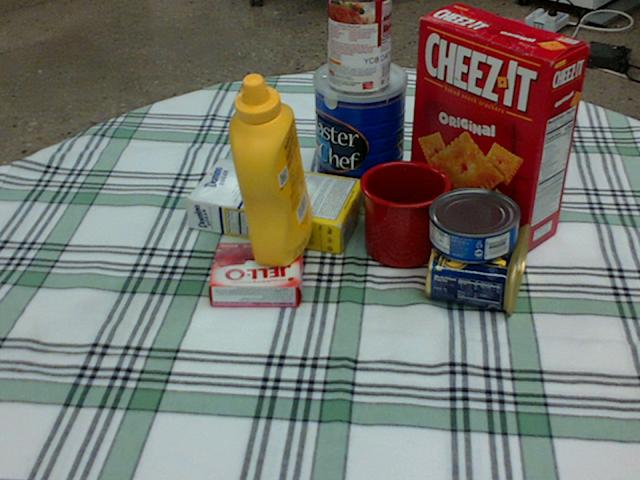cracker_box: (407, 3, 590, 251)
gelatin_box: (208, 244, 305, 307)
master_chef_can: (313, 58, 407, 209)
mug: (360, 160, 452, 267)
mustard_bottle: (228, 73, 311, 266)
potted_meat_can: (426, 210, 531, 310)
sugar_box: (183, 157, 364, 253)
tomato_soup_can: (327, 0, 392, 94)
tuna_fish_can: (428, 189, 519, 262)
